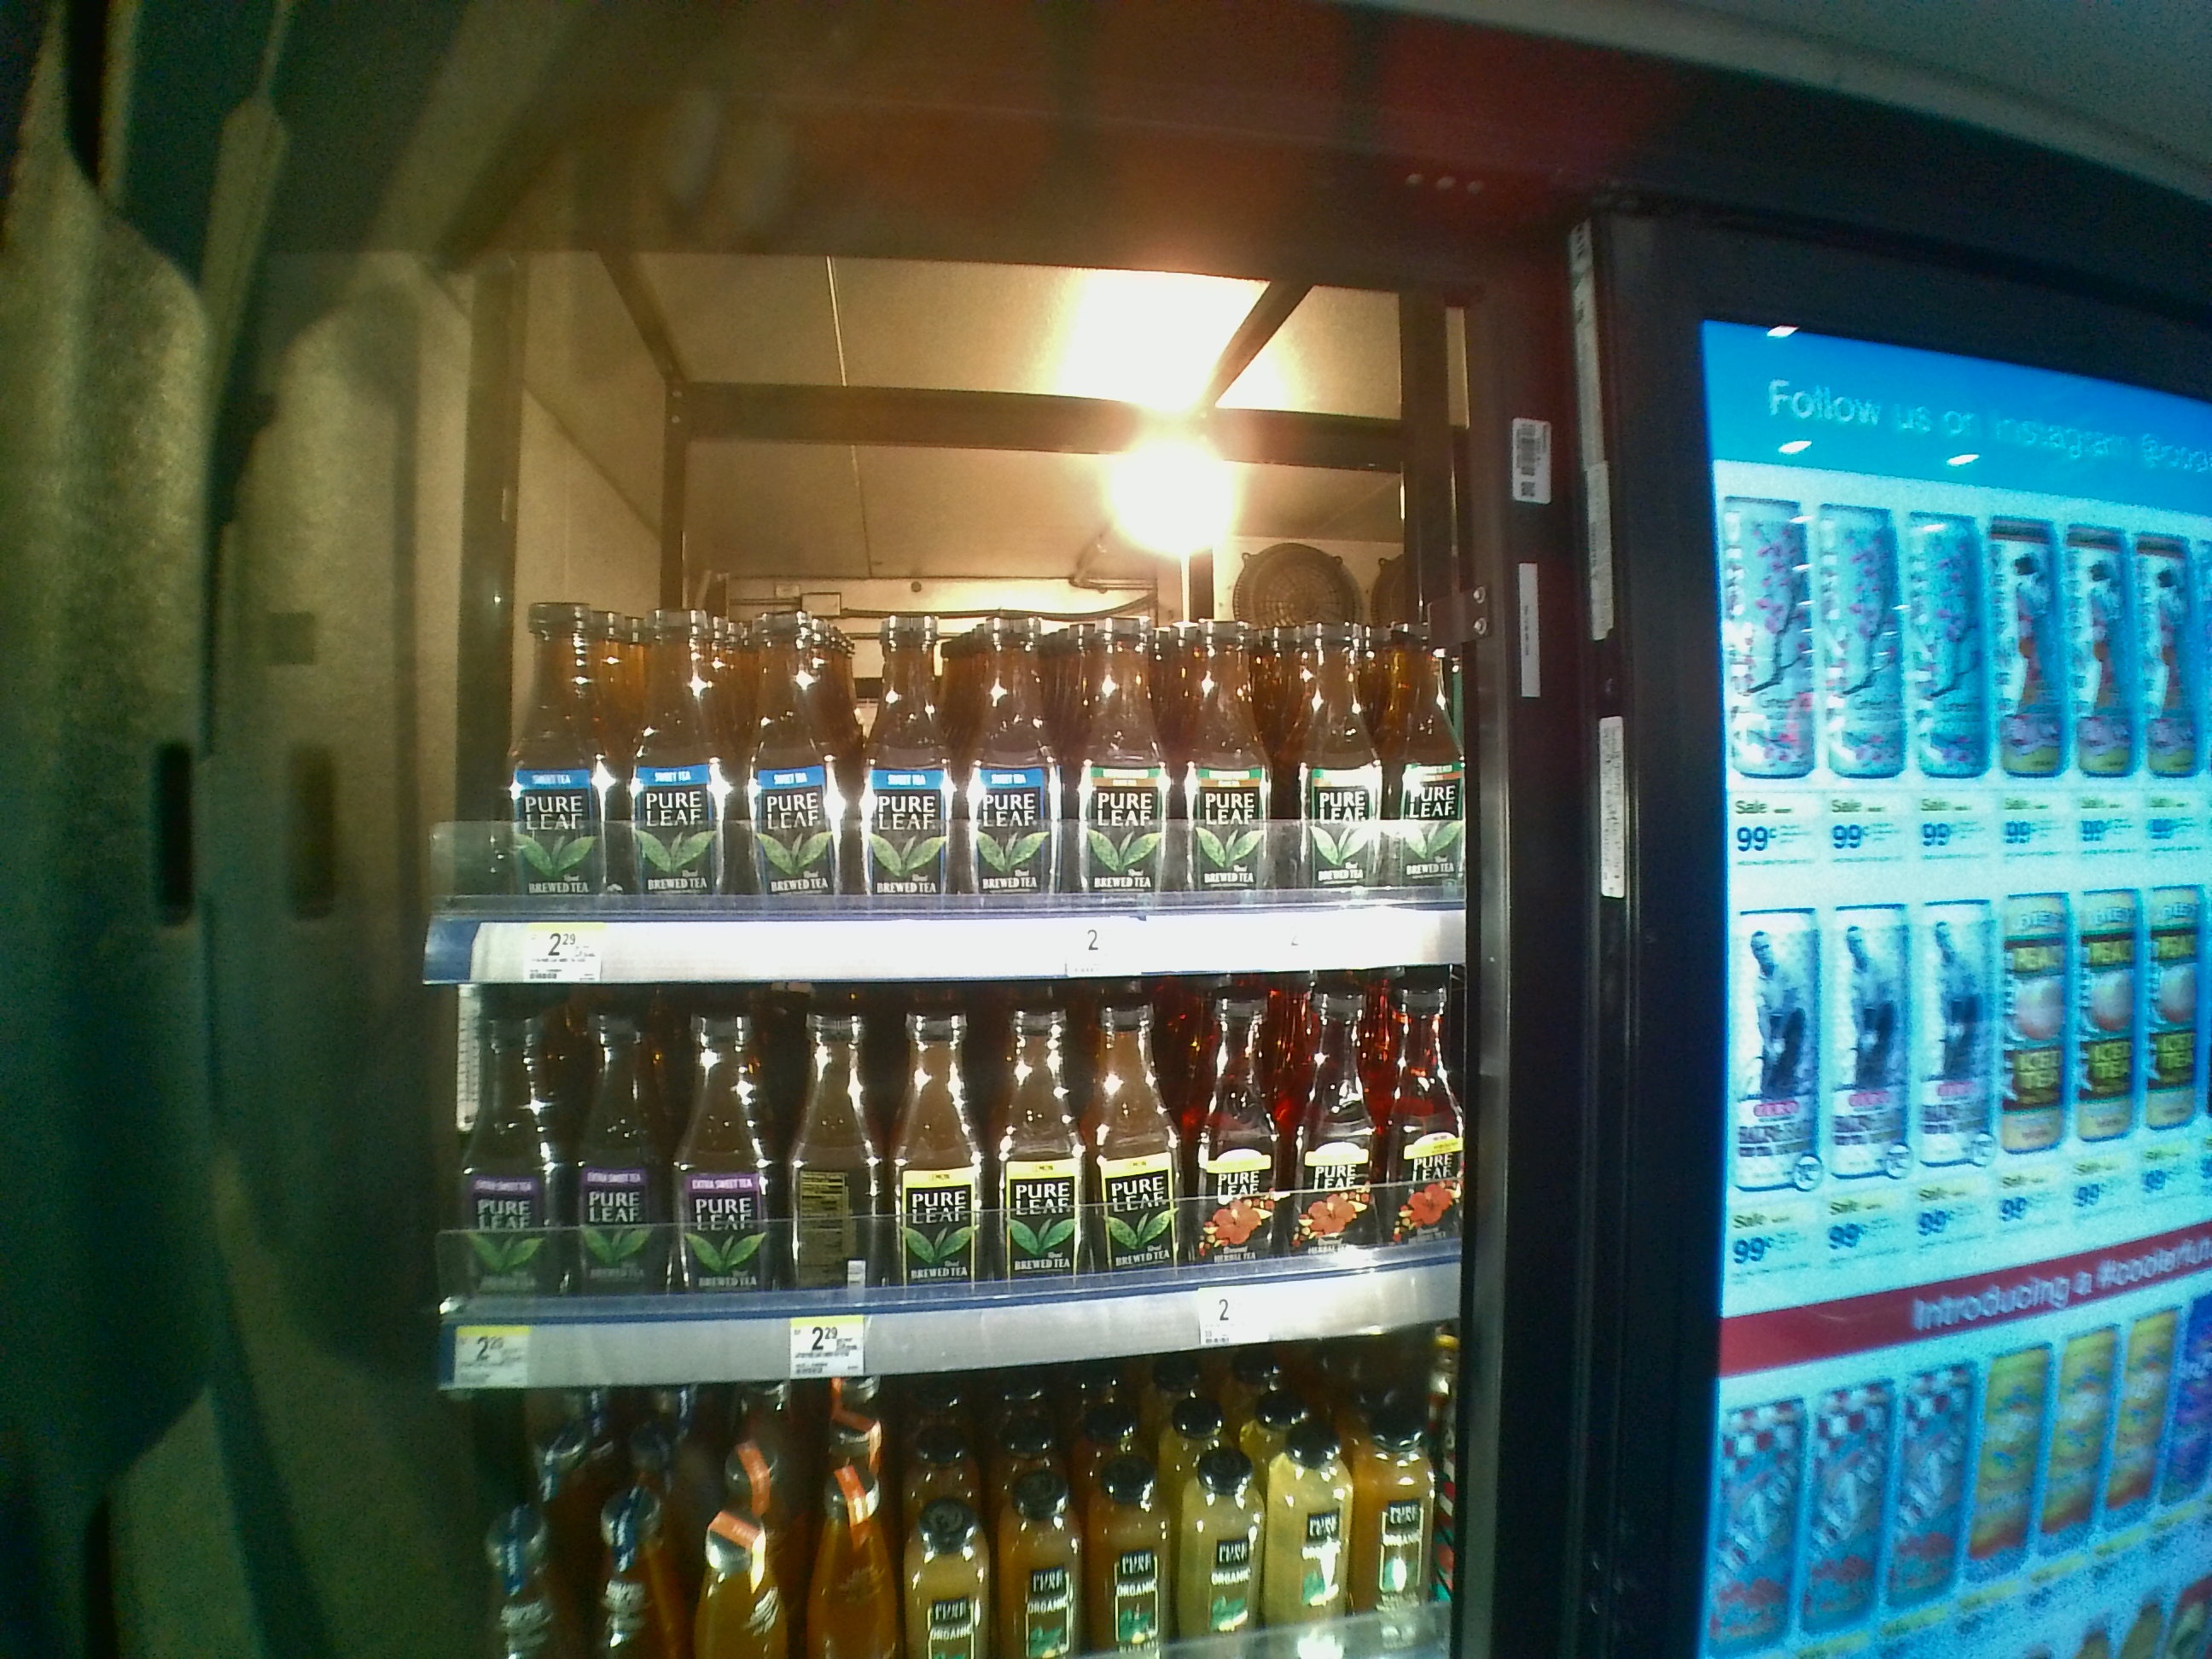shelf: (427, 296, 1468, 978), (421, 983, 1468, 1389)
